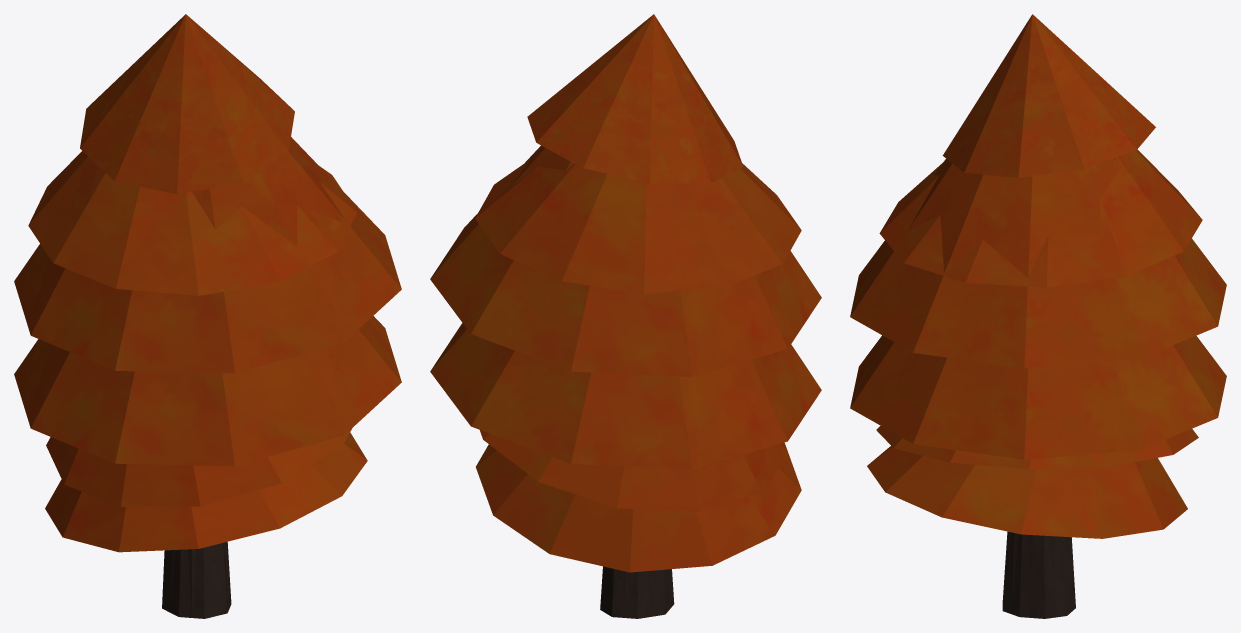
File: tree-green-orange-flowers_1.fbx
3 views of the same model, side by side, from view 1: azimuth 30°, elevation 25°; view 2: azimuth 150°, elevation 25°; view 3: azimuth 270°, elevation 25° (orthographic).
Parts seen in each view (by area): view 1: Cylinder.026; view 2: Cylinder.026; view 3: Cylinder.026.
Part boxes in pixels (x1,y1,x2,y2): Cylinder.026: (14, 14, 401, 618); Cylinder.026: (430, 14, 821, 618); Cylinder.026: (850, 14, 1226, 618).
Size of the model in its own units: 111 by 186 by 109.
